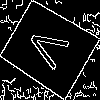V: (24, 23, 78, 75)
